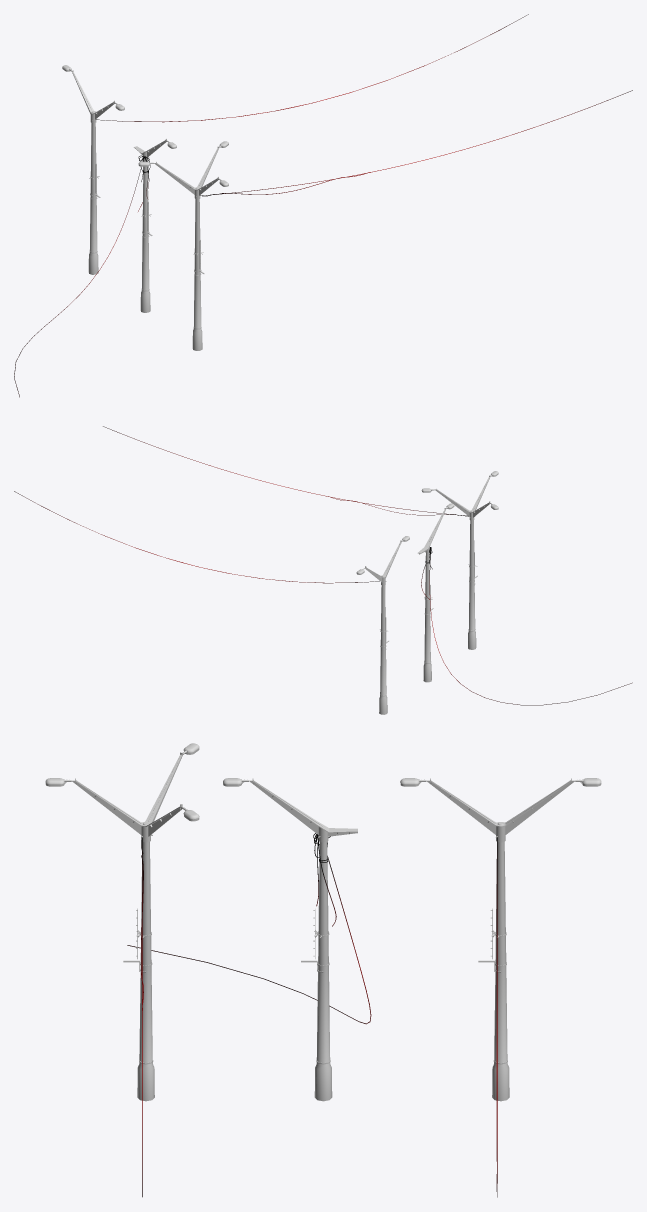
The model's file is LightPoles_Soviet.fbx.
3 views of the same model, one above another, from view 1: azimuth 30°, elevation 25°; view 2: azimuth 150°, elevation 25°; view 3: azimuth 270°, elevation 25° (orthographic). The views are drawn at different scales.
Parts seen in each view (by area): view 1: LightPole_03, LightPole_02, LightPole_01, PowerCable_02; view 2: LightPole_03, LightPole_02, LightPole_01, PowerCable_02; view 3: LightPole_03, LightPole_02, LightPole_01, PowerCable_04, PowerCable_01.
Boxes of the visible parts, x1,y1,x2,y2 form: LightPole_03: (138,141,228,350); LightPole_02: (62,65,124,274); LightPole_01: (134,138,176,312); PowerCable_02: (200,90,632,196); LightPole_03: (421,471,498,649); LightPole_02: (356,536,409,714); LightPole_01: (418,503,454,682); PowerCable_02: (103,426,468,516); LightPole_03: (45,743,199,1101); LightPole_02: (400,778,601,1101); LightPole_01: (223,778,357,1101); PowerCable_04: (127,834,371,1024); PowerCable_01: (496,837,497,1197).
Bounding box in the file's own units: 3428 × 1005 × 1567.
